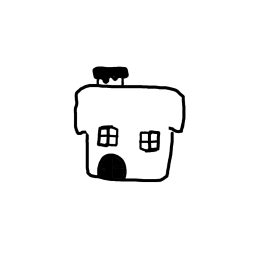chimney: (86, 60, 135, 95)
closed_window: (134, 127, 165, 156), (94, 124, 122, 150)
door: (95, 152, 131, 185)
single_line_roof: (68, 81, 190, 136)
small_house: (3, 3, 260, 260)
wall: (81, 123, 178, 187)
